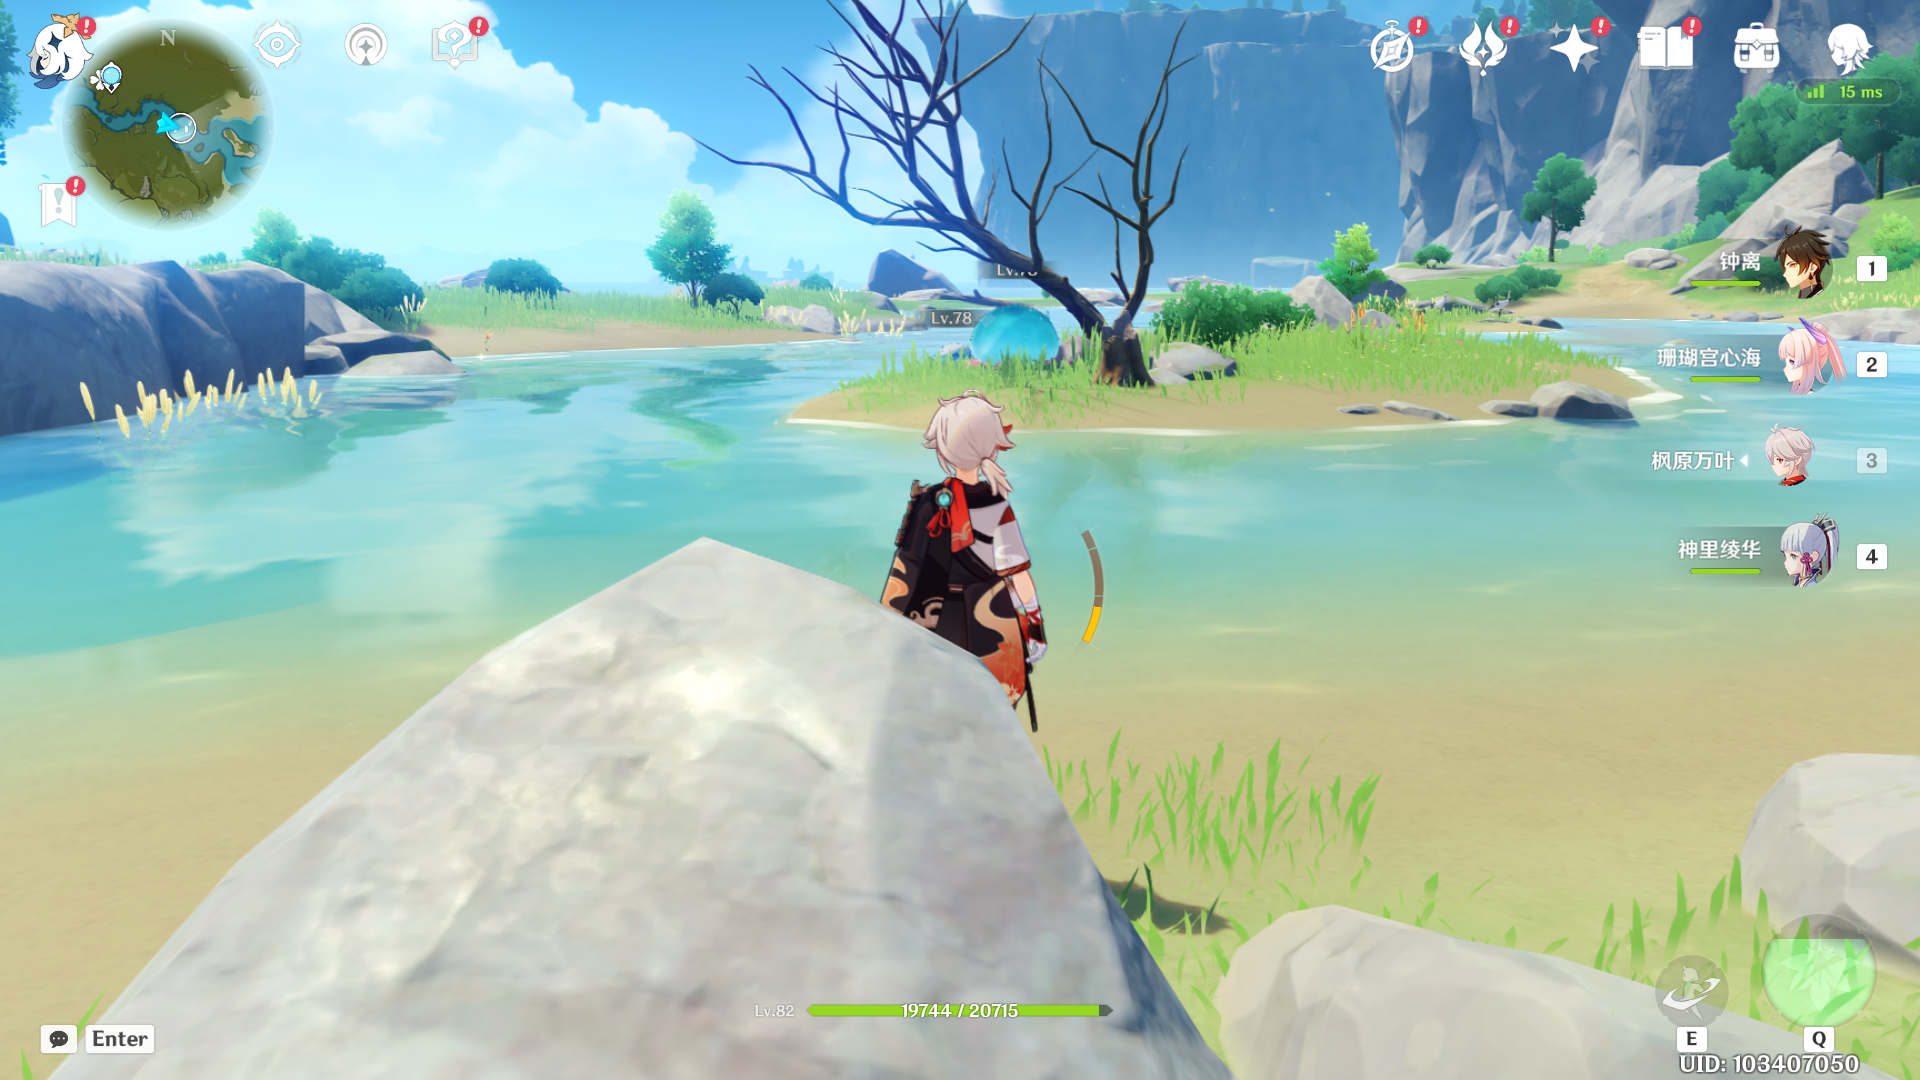slime: (964, 291, 1062, 376)
